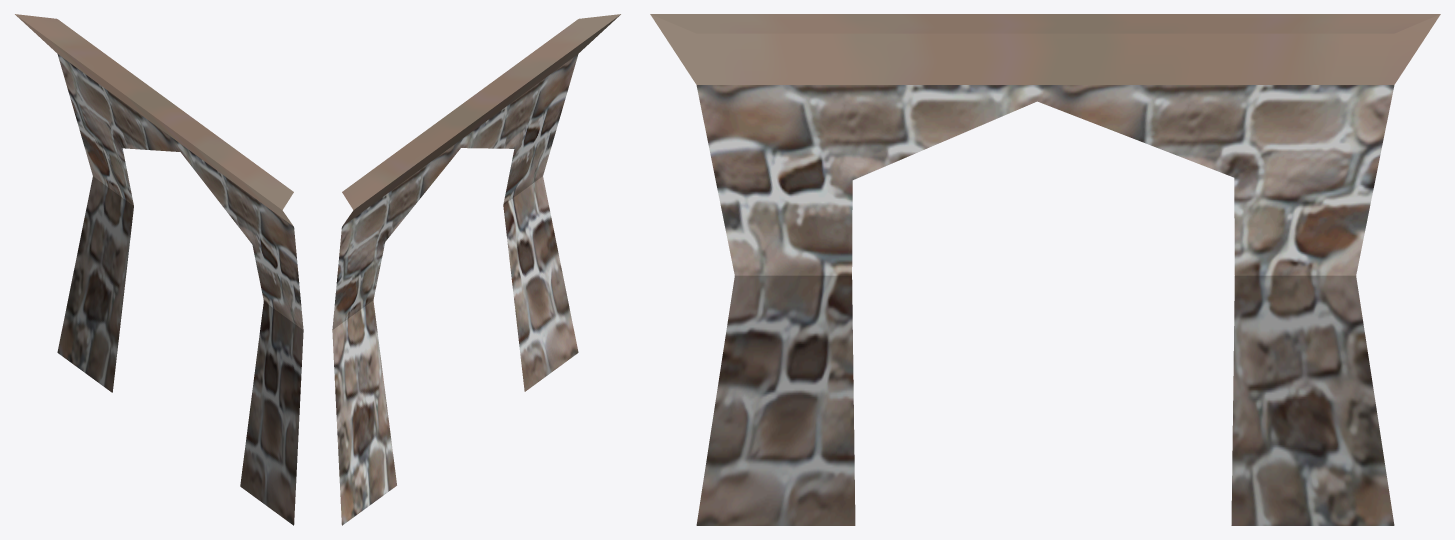
Rendered from W_A1_O [Steine]_1147.glb.
The picture shows the model from 3 angles, left to right: view 1: azimuth 30°, elevation 25°; view 2: azimuth 150°, elevation 25°; view 3: azimuth 270°, elevation 25°; orthographic projection. The views are drawn at different scales.
Parts seen in each view (by area): view 1: pPlaneShape1, polySurfaceShape1065; view 2: pPlaneShape1, polySurfaceShape1065; view 3: pPlaneShape1, polySurfaceShape1065.
Boxes of the visible parts, <box> form: pPlaneShape1: <box>57,54,303,525</box>; polySurfaceShape1065: <box>15,14,293,226</box>; pPlaneShape1: <box>332,54,578,525</box>; polySurfaceShape1065: <box>342,14,620,226</box>; pPlaneShape1: <box>696,85,1394,525</box>; polySurfaceShape1065: <box>650,14,1440,84</box>.
Bounding box in the file's own units: 0.0607 × 0.3891 × 0.5666.
2 materials, 2 textured.
